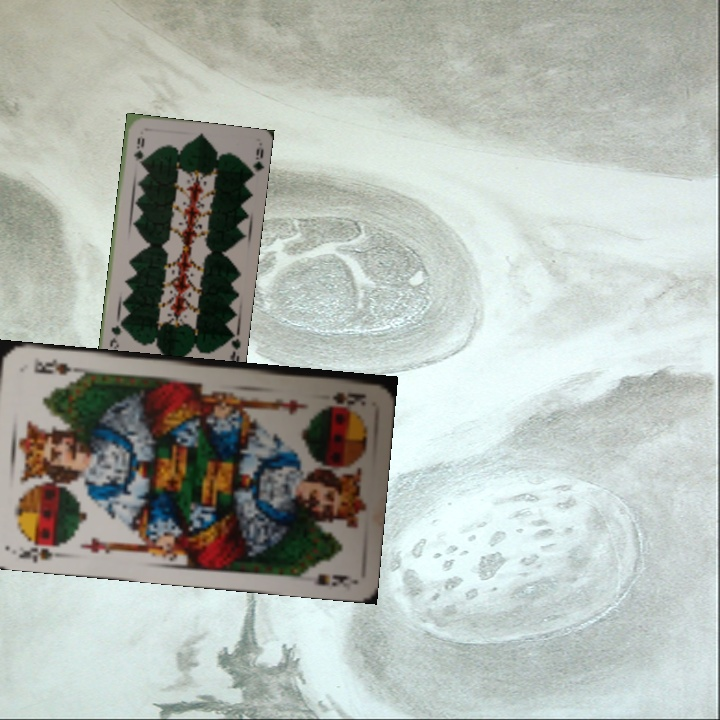G9: (224, 330, 243, 368), (130, 133, 147, 168)
SK: (14, 536, 64, 564), (328, 388, 369, 408)
